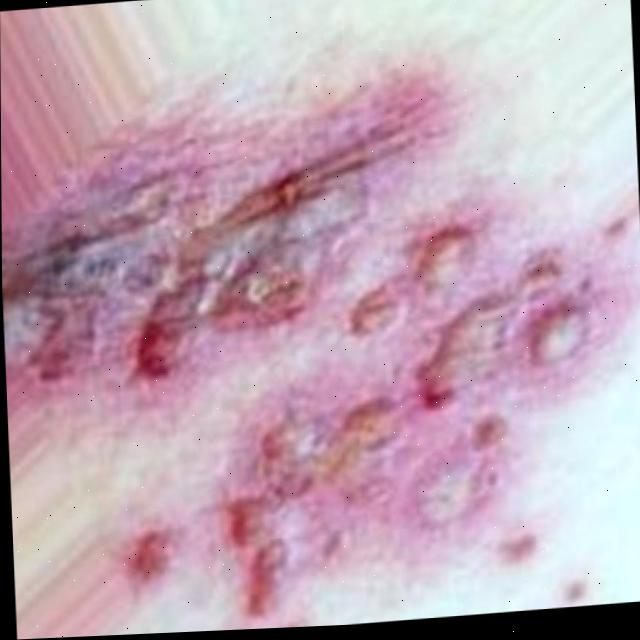Shingles: (1, 62, 610, 633)
